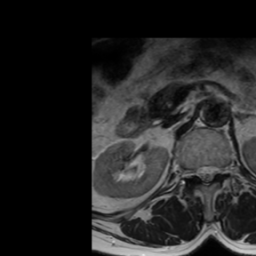CCS_normal: (203, 158, 210, 191)
LFS_normal: (218, 157, 226, 181)
LLS_normal: (210, 157, 218, 184)
RFS_stenosis: (187, 160, 195, 186)
RLS_normal: (195, 158, 203, 185)
